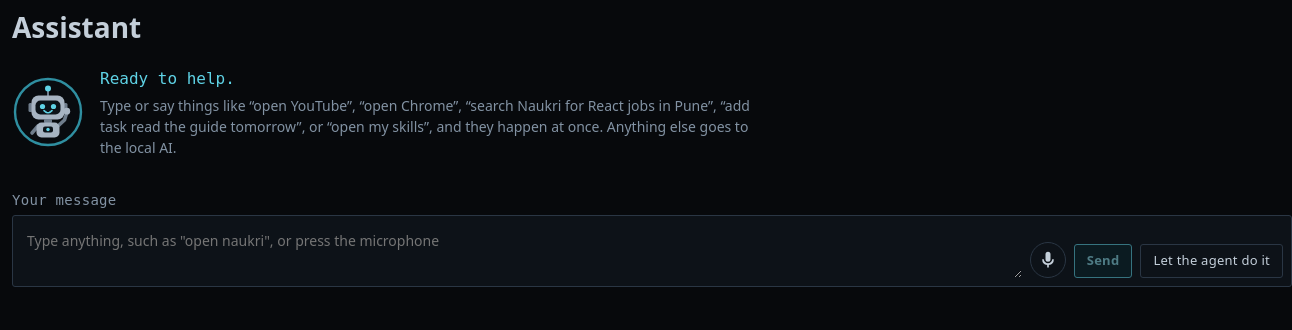
Scenario: the microphone in the chat bar › sits in the input bar with Send, and shows listening with a level meter
Later steps or results of the test are not shown.
Click the button named "Speak a message or command" at (1048, 260), box [1030,242,1066,278]
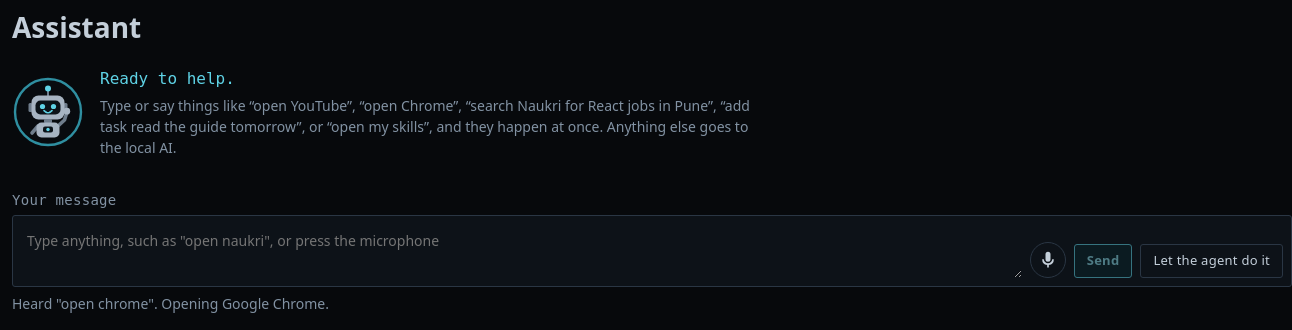
Expected: the text "Heard \"open chrome\". Opening Google Chrome." is shown, [12,294,329,312]
